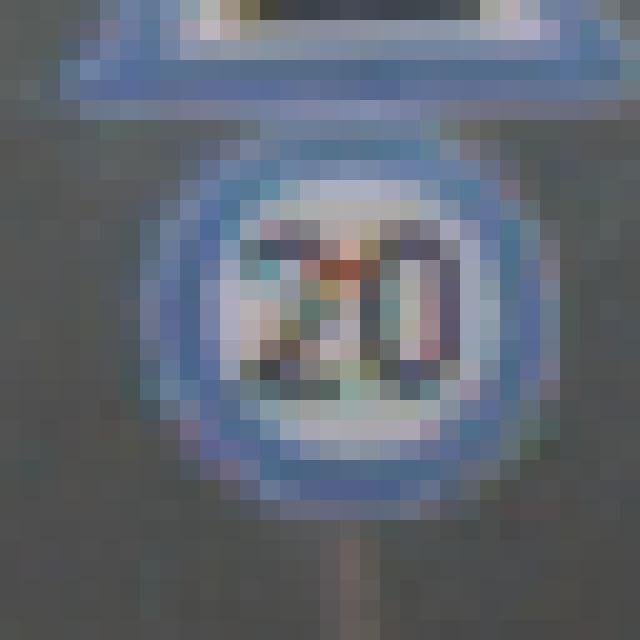SPEED LIMIT 20: (116, 141, 584, 523)
